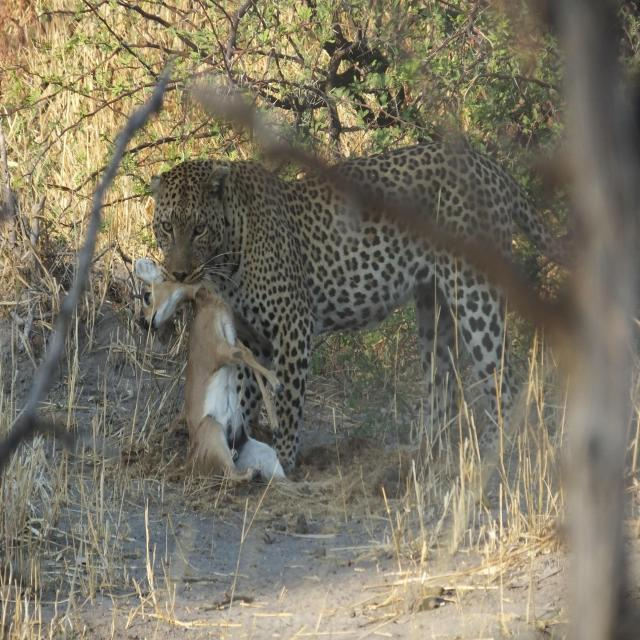Leopard: (140, 135, 598, 469)
